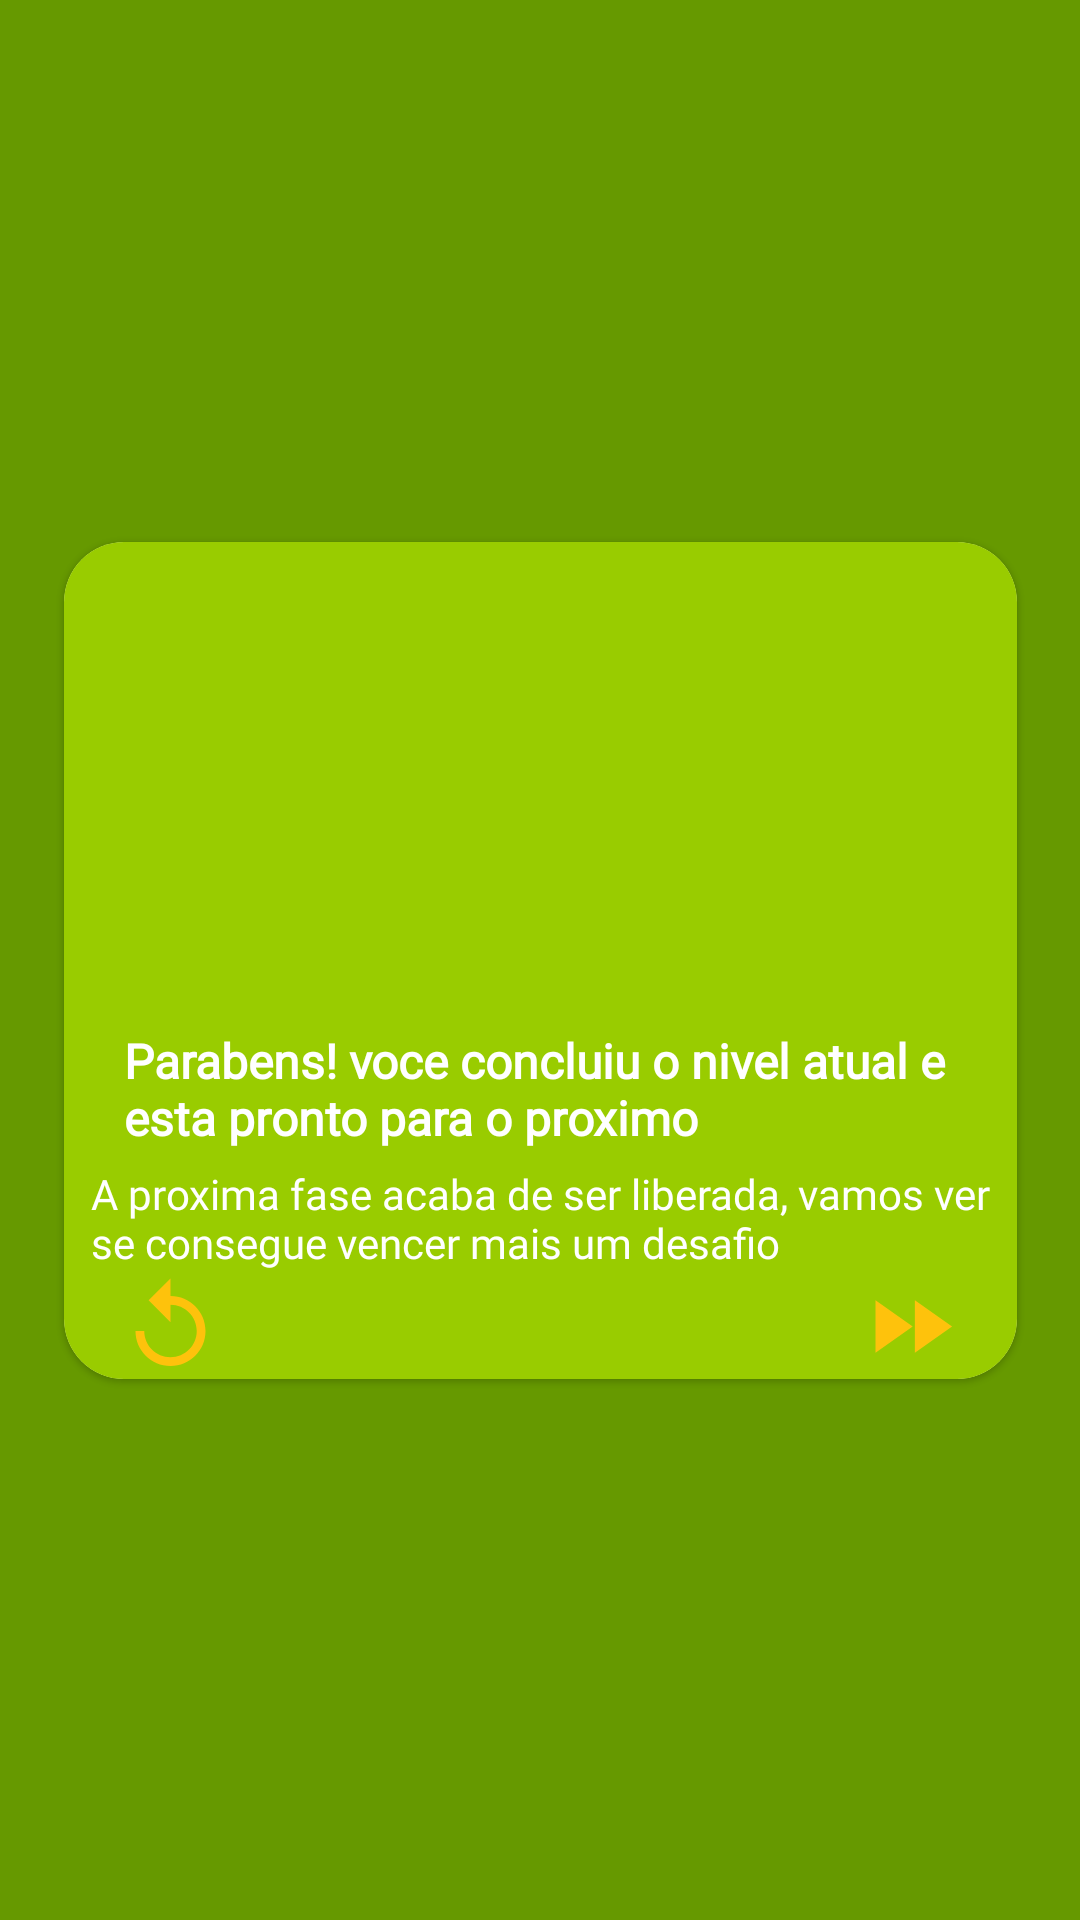

Named icons in this screenshot (1080px x 1920px) and their bounding boxes, (left=x1, top=y1, right=x2, bottom=y2):
re do image button: (left=135, top=1279, right=206, bottom=1366)
